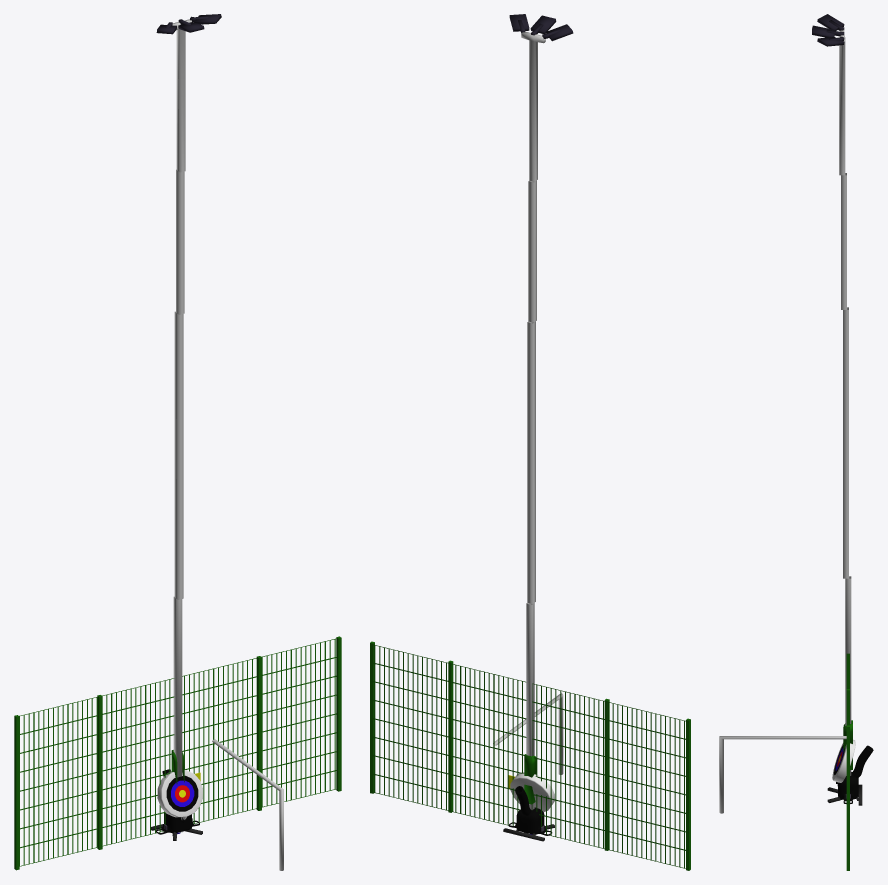
File: Assets.gltf
3 views of the same model, side by side, from view 1: azimuth 30°, elevation 25°; view 2: azimuth 150°, elevation 25°; view 3: azimuth 270°, elevation 25° (orthographic). The views are drawn at different scales.
Visible parts, largest first — view 1: SM_Fencing, SM_FloodLight, SM_Target, SM_GoalPost; view 2: SM_Fencing, SM_FloodLight, SM_Feeder, SM_Target, SM_GoalPost; view 3: SM_FloodLight, SM_GoalPost, SM_Fencing, SM_Feeder, SM_Target.
Part boxes in pixels (x1,y1,x2,y2): SM_Fencing: [14, 636, 341, 870]; SM_FloodLight: [151, 14, 221, 840]; SM_Target: [157, 770, 202, 836]; SM_GoalPost: [212, 739, 283, 870]; SM_Fencing: [370, 641, 690, 870]; SM_FloodLight: [503, 14, 573, 841]; SM_Feeder: [508, 786, 552, 835]; SM_Target: [510, 772, 554, 835]; SM_GoalPost: [493, 693, 563, 774]; SM_FloodLight: [812, 14, 862, 805]; SM_GoalPost: [719, 736, 846, 813]; SM_Fencing: [846, 653, 849, 870]; SM_Feeder: [836, 745, 873, 803]; SM_Target: [832, 739, 858, 800].
Size of the model in its own units: 10 by 24.08 by 4.36.
Materials: 1 (1 with a texture image).
